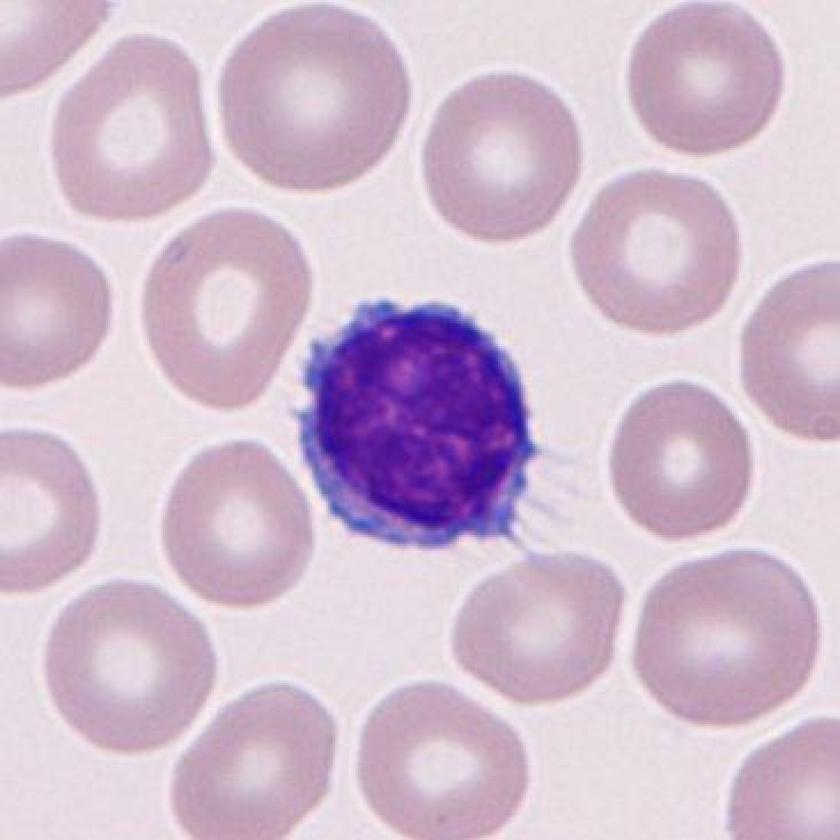lymphocyte: (290, 288, 554, 568)
